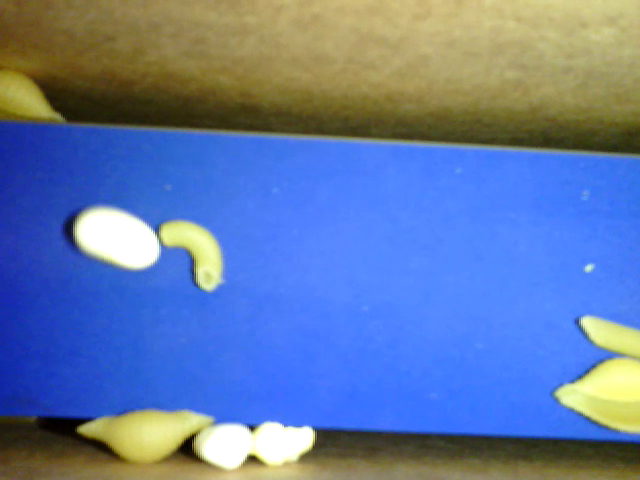elbow: (160, 221, 224, 295)
penne: (575, 312, 638, 360)
shell: (74, 408, 218, 464), (554, 352, 639, 436), (1, 68, 67, 125)
